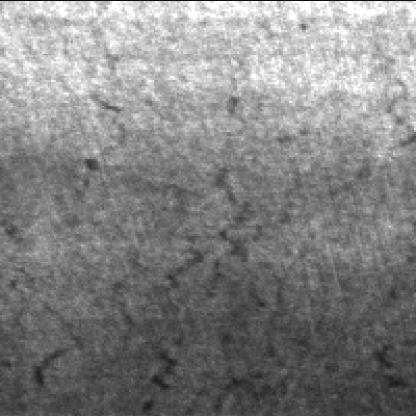crazing: (122, 160, 318, 406), (15, 73, 135, 391)
